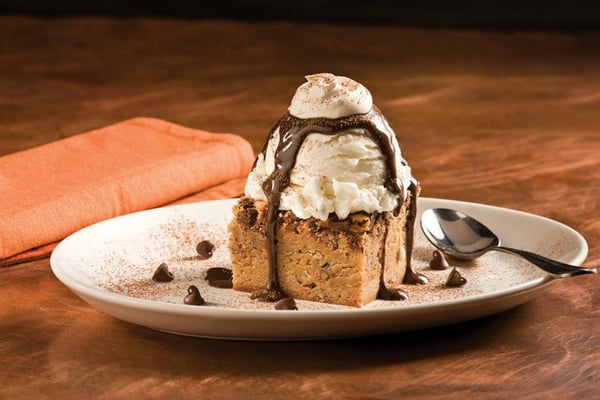salad: (419, 207, 591, 277)
